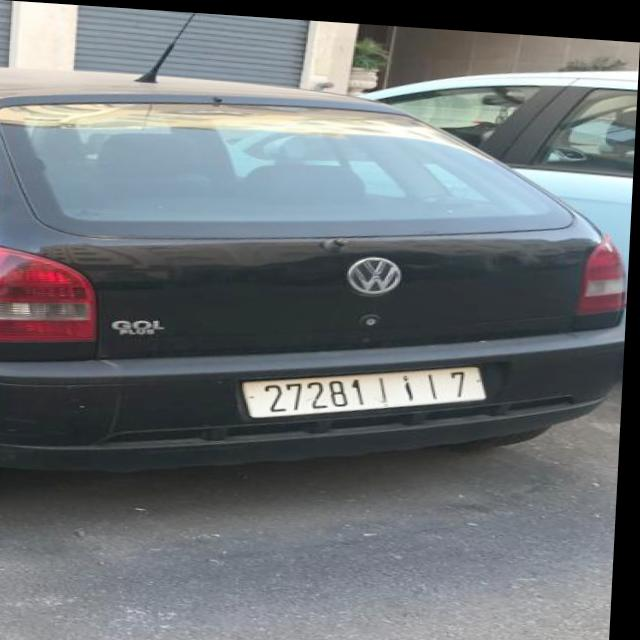License-Plate: (247, 360, 486, 413)
